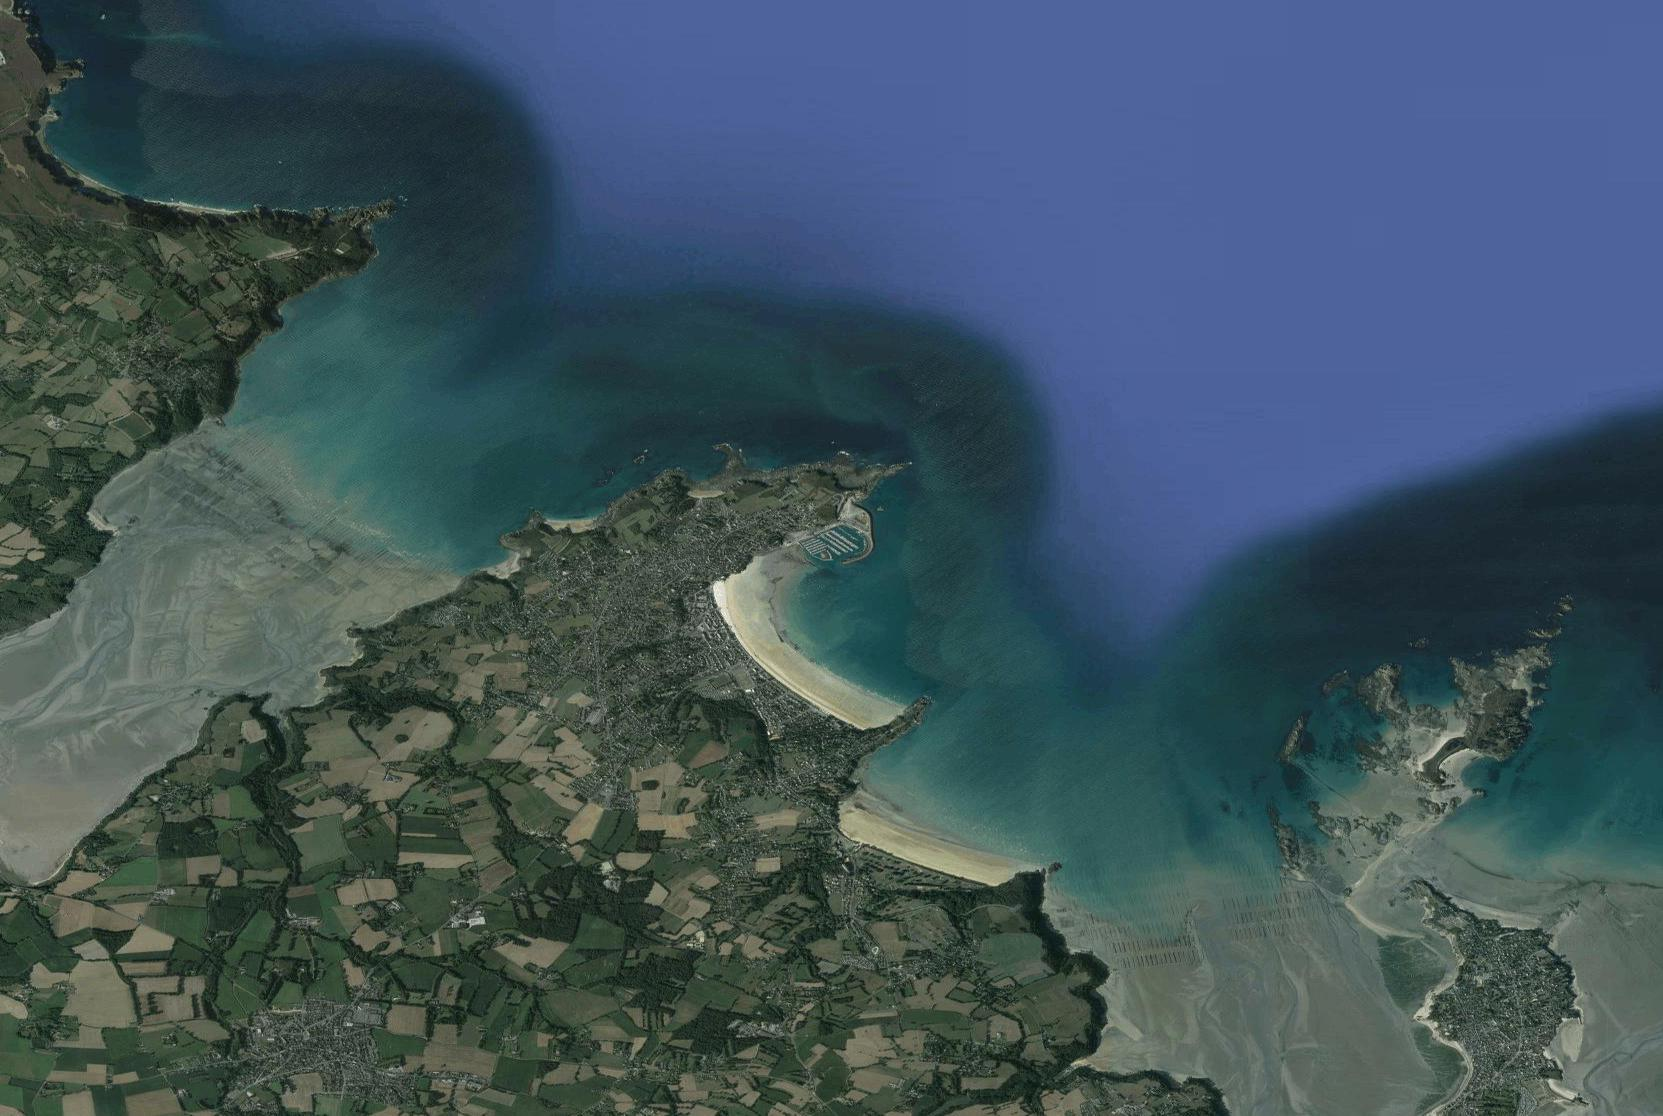harbor: (790, 514, 874, 569)
